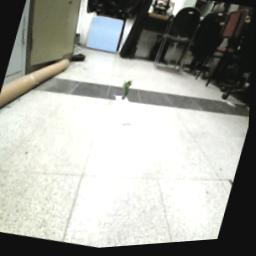herb: (120, 81, 135, 105)
